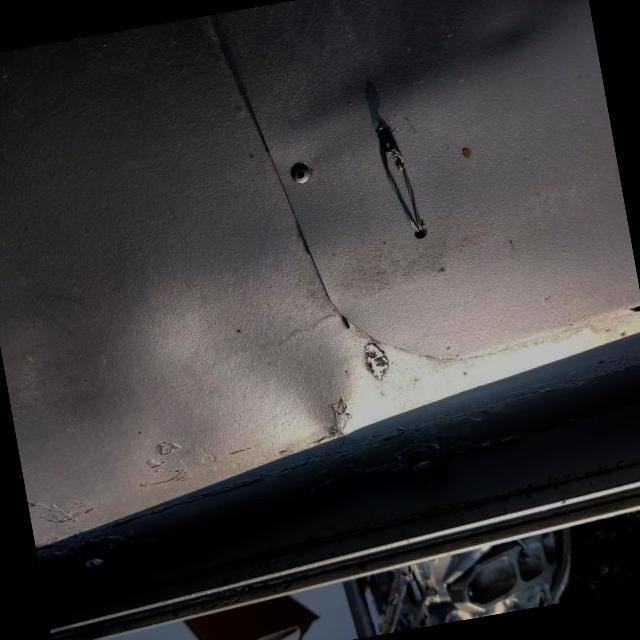dent: (133, 242, 394, 512)
